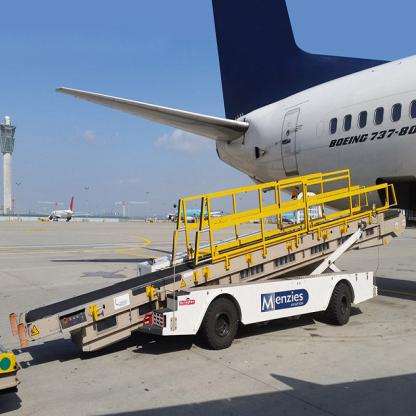baggagetruck: (10, 161, 402, 369)
